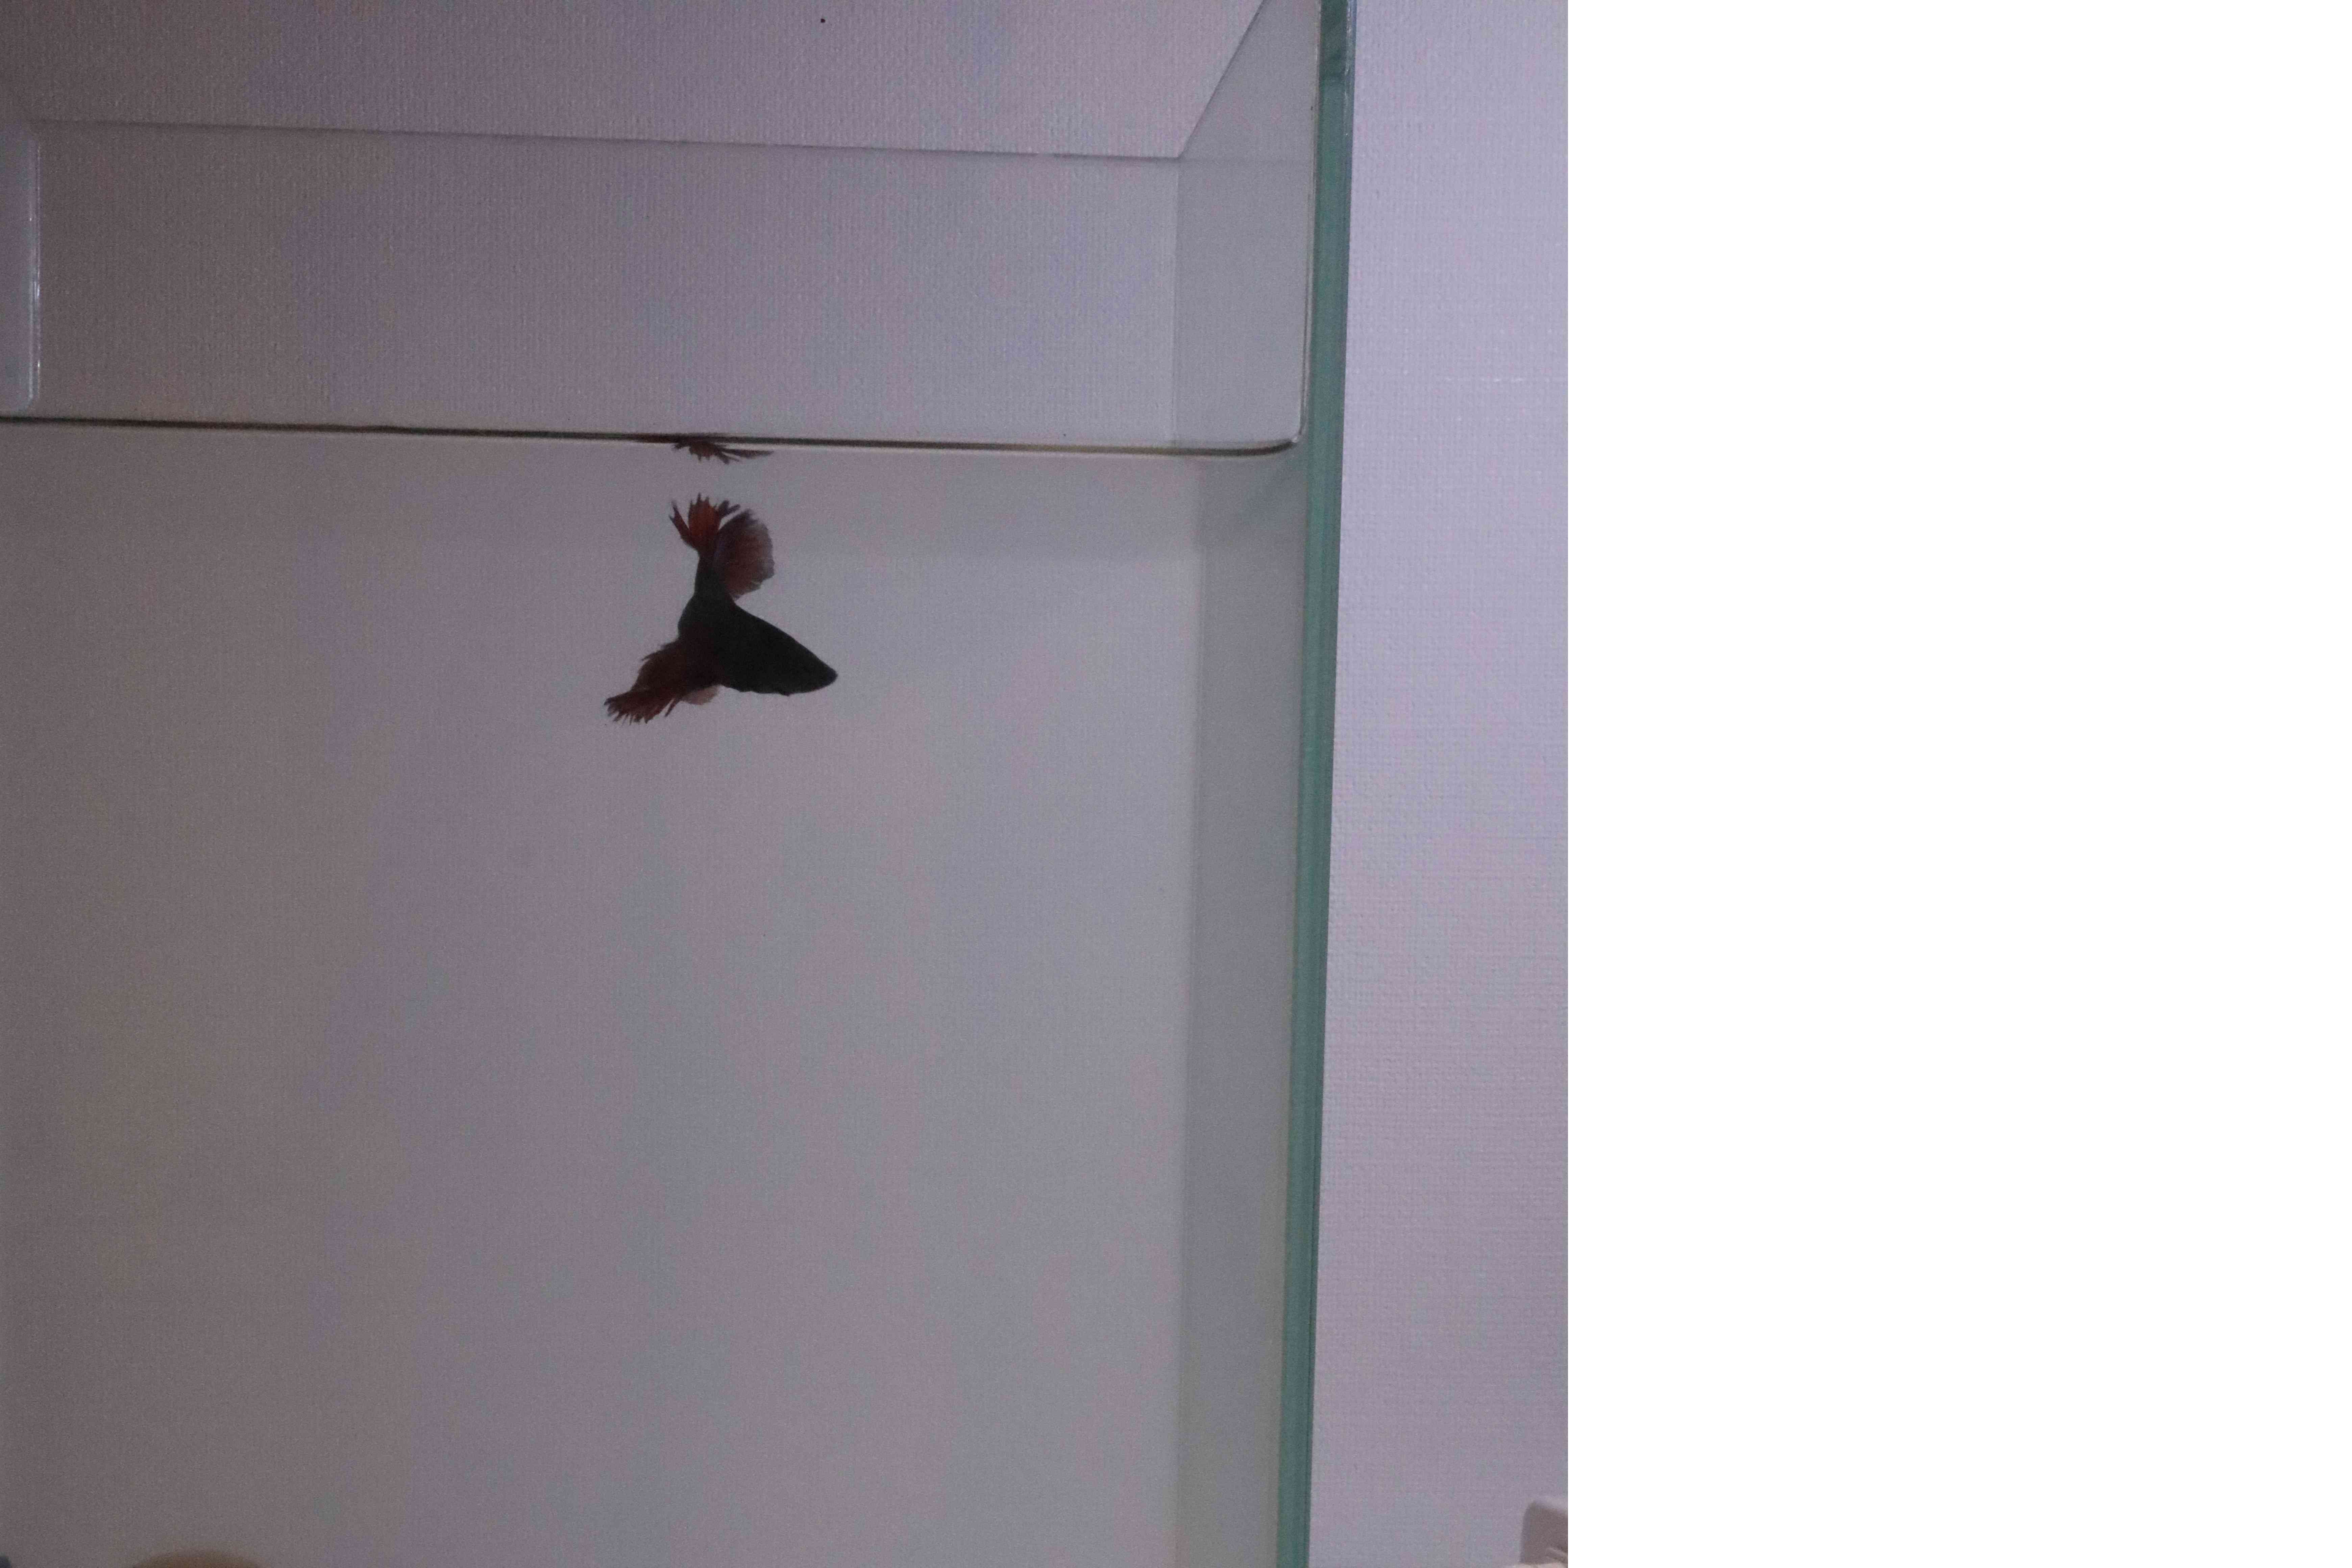fish: (579, 485, 857, 721)
